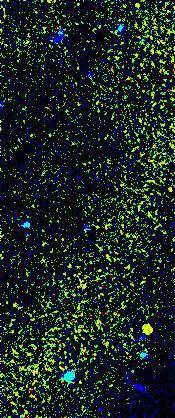star: (137, 313, 167, 343)
